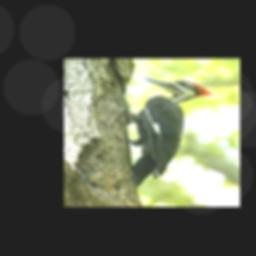Woodpecker: (125, 78, 214, 187)
